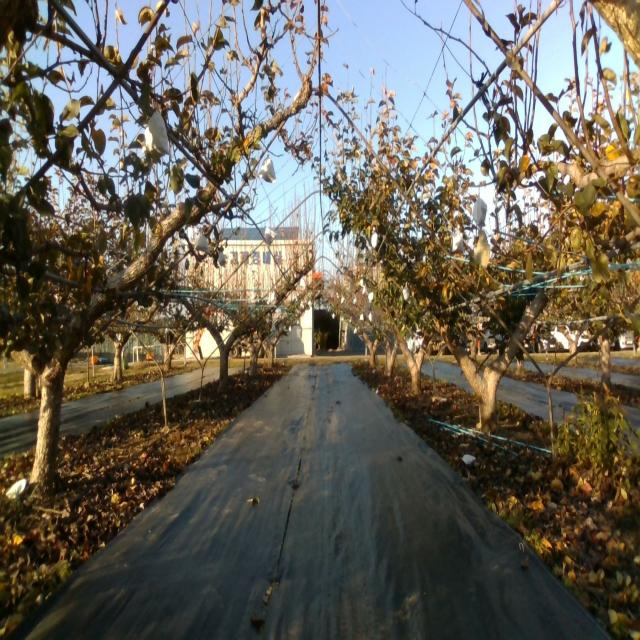pearbags: (143, 107, 172, 163), (258, 153, 276, 184), (472, 197, 488, 225), (192, 231, 209, 253), (452, 230, 464, 252)
